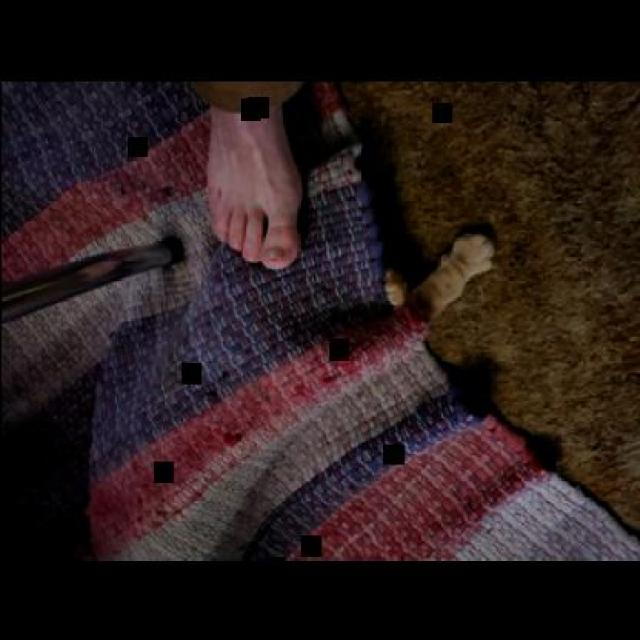unauthorized: (381, 223, 497, 323)
